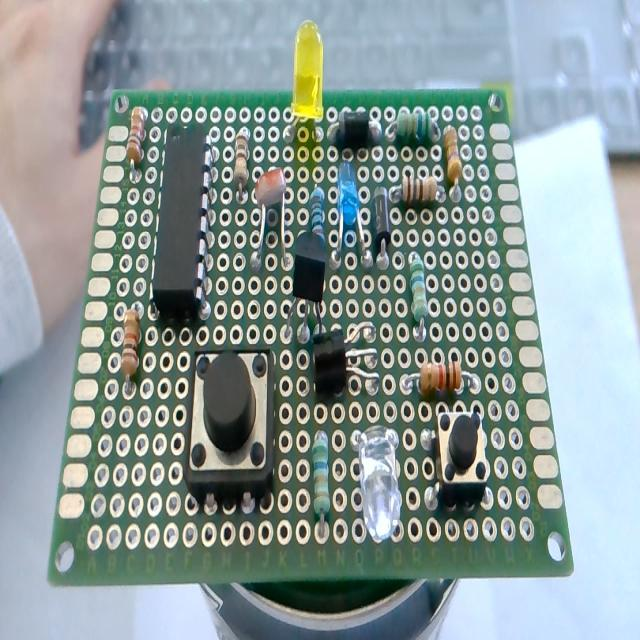IC: (150, 119, 217, 325)
cds: (250, 165, 292, 263)
diode: (370, 178, 402, 274), (324, 102, 386, 150)
led: (350, 412, 408, 556), (286, 15, 328, 154), (328, 152, 372, 276)
resistor: (305, 422, 339, 540), (403, 358, 477, 402), (392, 171, 448, 217), (401, 252, 431, 336), (438, 120, 466, 204), (117, 302, 143, 392), (229, 122, 251, 209), (306, 176, 328, 260), (386, 109, 440, 143), (123, 100, 143, 172)
switch: (182, 347, 282, 495), (427, 399, 493, 523)
transistor: (308, 317, 388, 400), (284, 222, 332, 341)
